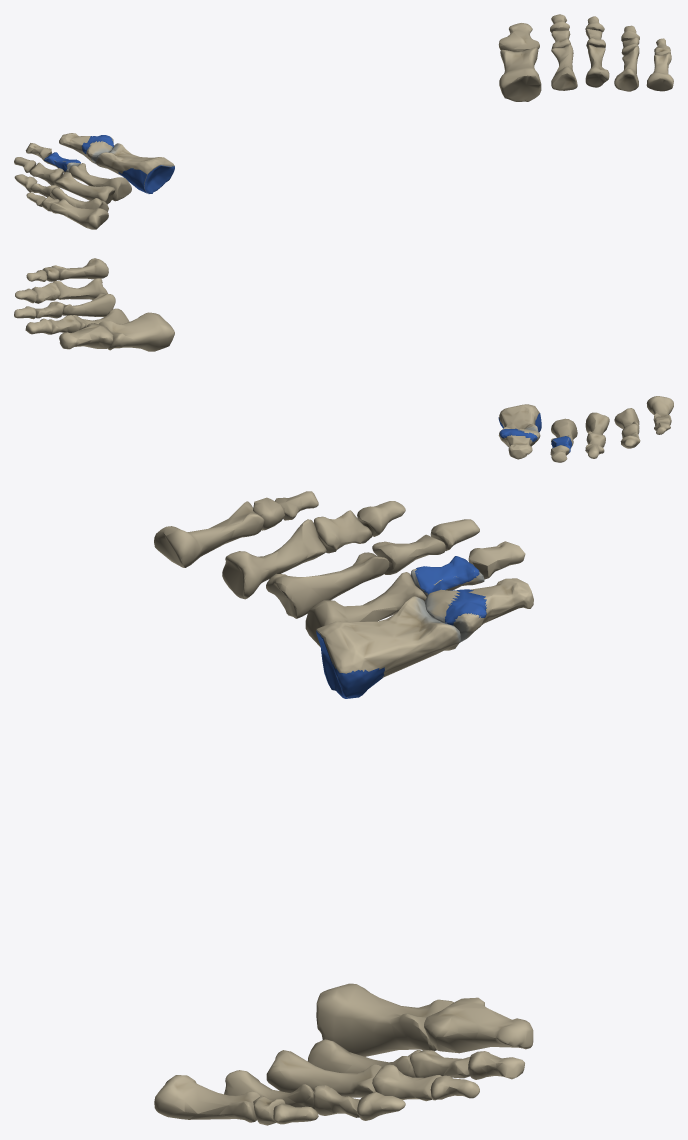
Rendered from phalanges-pedis.glb.
3 renders of one model, top to bottom at view 1: azimuth 30°, elevation 25°; view 2: azimuth 150°, elevation 25°; view 3: azimuth 270°, elevation 25°, orthographic. The views are drawn at different scales.
Visible parts, largest first — view 1: FJ3329, FJ3310, insertio__proximalis__m-abductor-hallucis, FJ3324, FJ3328, FJ3319, FJ3320, FJ3182, FJ3315, FJ3312, FJ3192, FJ3311 (+2 smaller); view 2: FJ3329, FJ3182, FJ3310, FJ3311, FJ3315, FJ3312, FJ3192, FJ3324, FJ3319, FJ3328, FJ3320, FJ3293 (+4 smaller); view 3: FJ3310, FJ3329, FJ3182, FJ3320, FJ3321, FJ3315, FJ3324, FJ3311, FJ3319, FJ3192, FJ3328, FJ3312 (+14 smaller).
Boxes of the visible parts, <box> form: FJ3329: <box>499,47,541,101</box>; FJ3310: <box>95,143,174,176</box>; insertio__proximalis__m-abductor-hallucis: <box>118,165,174,193</box>; FJ3324: <box>49,199,108,229</box>; FJ3328: <box>551,44,577,90</box>; FJ3319: <box>69,163,131,201</box>; FJ3320: <box>54,172,115,204</box>; FJ3182: <box>498,23,539,51</box>; FJ3315: <box>646,53,673,91</box>; FJ3312: <box>614,46,639,91</box>; FJ3192: <box>59,133,113,164</box>; FJ3311: <box>585,44,609,87</box>; FJ3329: <box>99,312,174,351</box>; FJ3182: <box>59,323,113,349</box>; FJ3310: <box>499,404,539,447</box>; FJ3311: <box>62,293,115,316</box>; FJ3315: <box>51,258,108,280</box>; FJ3312: <box>53,278,107,299</box>; FJ3192: <box>498,428,540,454</box>; FJ3324: <box>646,396,673,422</box>; FJ3319: <box>551,418,577,445</box>; FJ3328: <box>73,308,129,329</box>; FJ3320: <box>585,412,609,436</box>; FJ3293: <box>48,315,80,334</box>; FJ3310: <box>316,596,460,677</box>; FJ3329: <box>316,983,453,1056</box>; FJ3182: <box>424,997,533,1053</box>; FJ3320: <box>266,552,389,618</box>; FJ3321: <box>222,519,326,599</box>; FJ3315: <box>154,1075,261,1122</box>; FJ3324: <box>154,501,264,567</box>; FJ3311: <box>266,1050,381,1097</box>; FJ3319: <box>305,572,426,646</box>; FJ3192: <box>424,578,533,642</box>; FJ3328: <box>307,1039,421,1077</box>; FJ3312: <box>224,1070,314,1109</box>.
Bounding box in the file's own units: 339 × 19.22 × 87.33.
